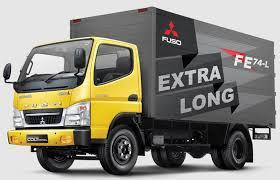truck: (3, 30, 155, 180)
